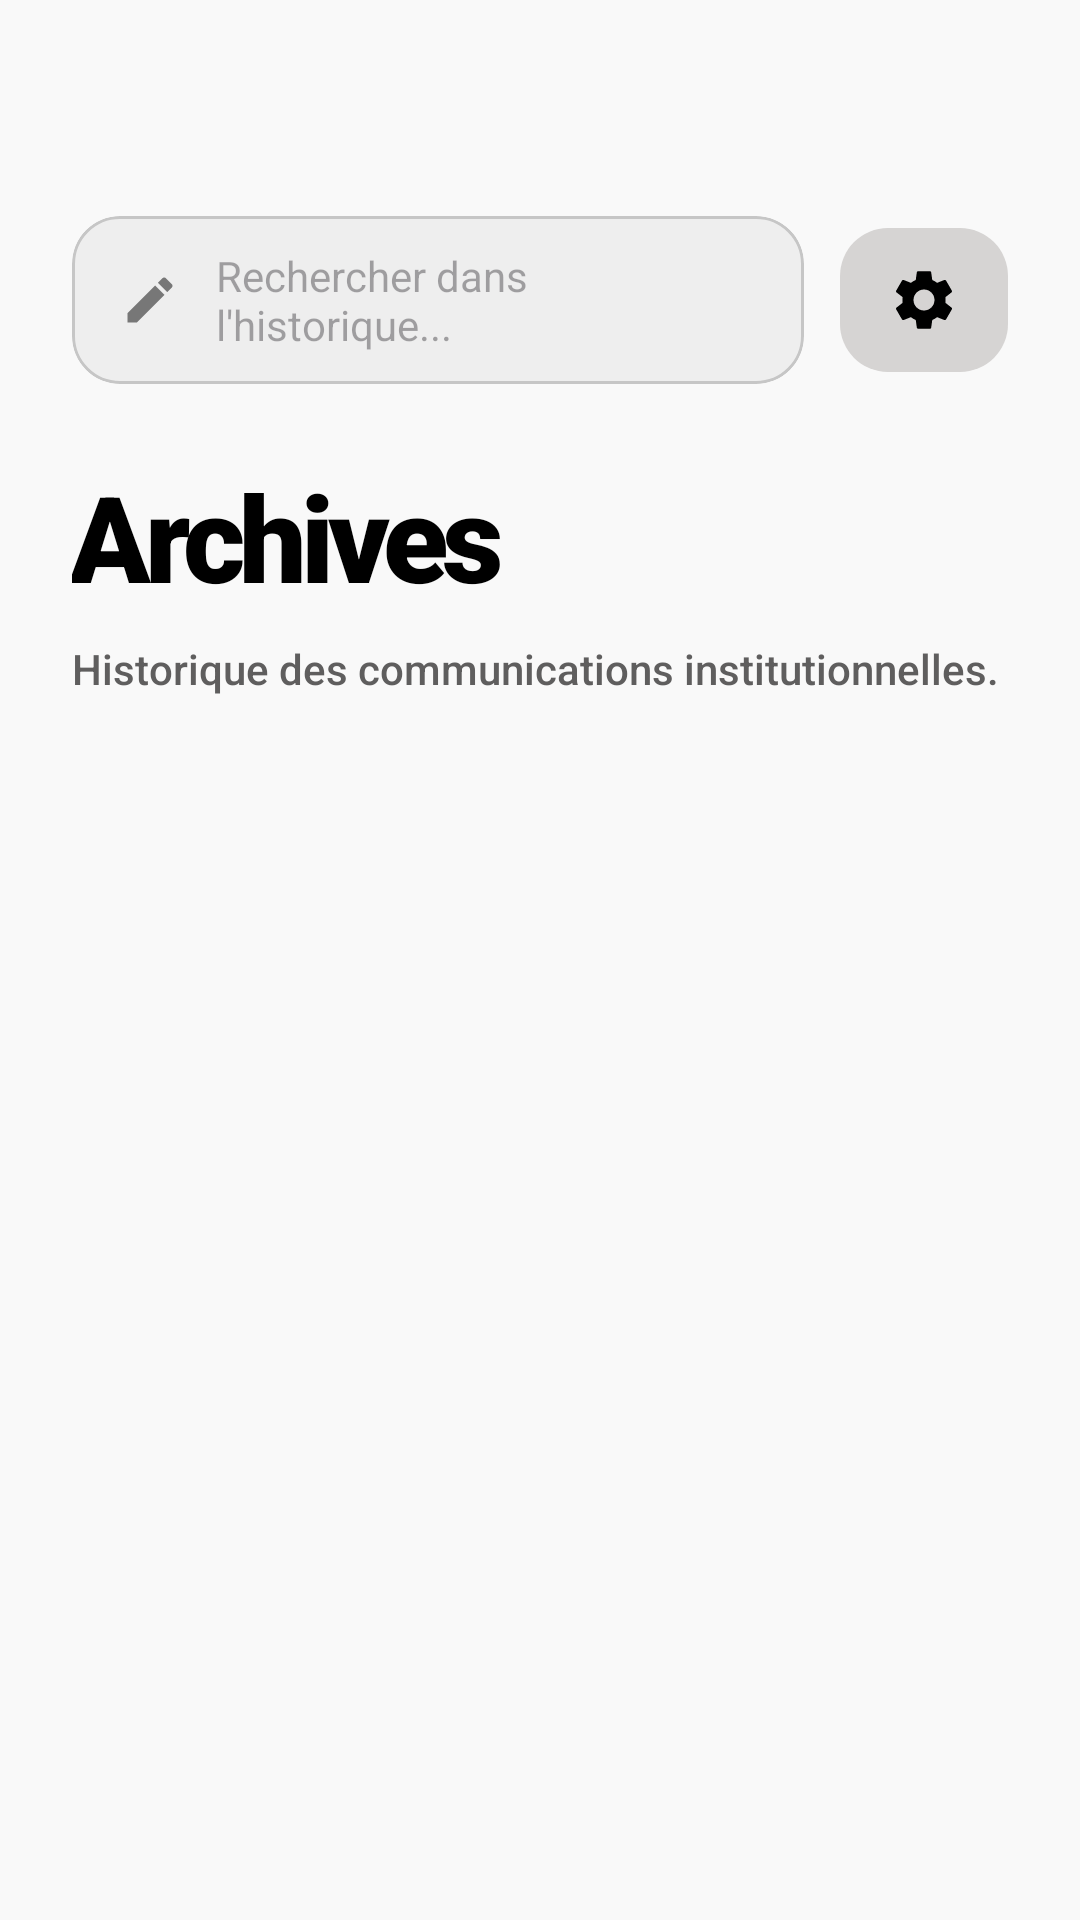

Icons on this 1080×1920 Android screen, each with its box as (x1, y1, x2, y2):
edit: (127, 277, 173, 323)
settings: (840, 228, 1008, 372)
